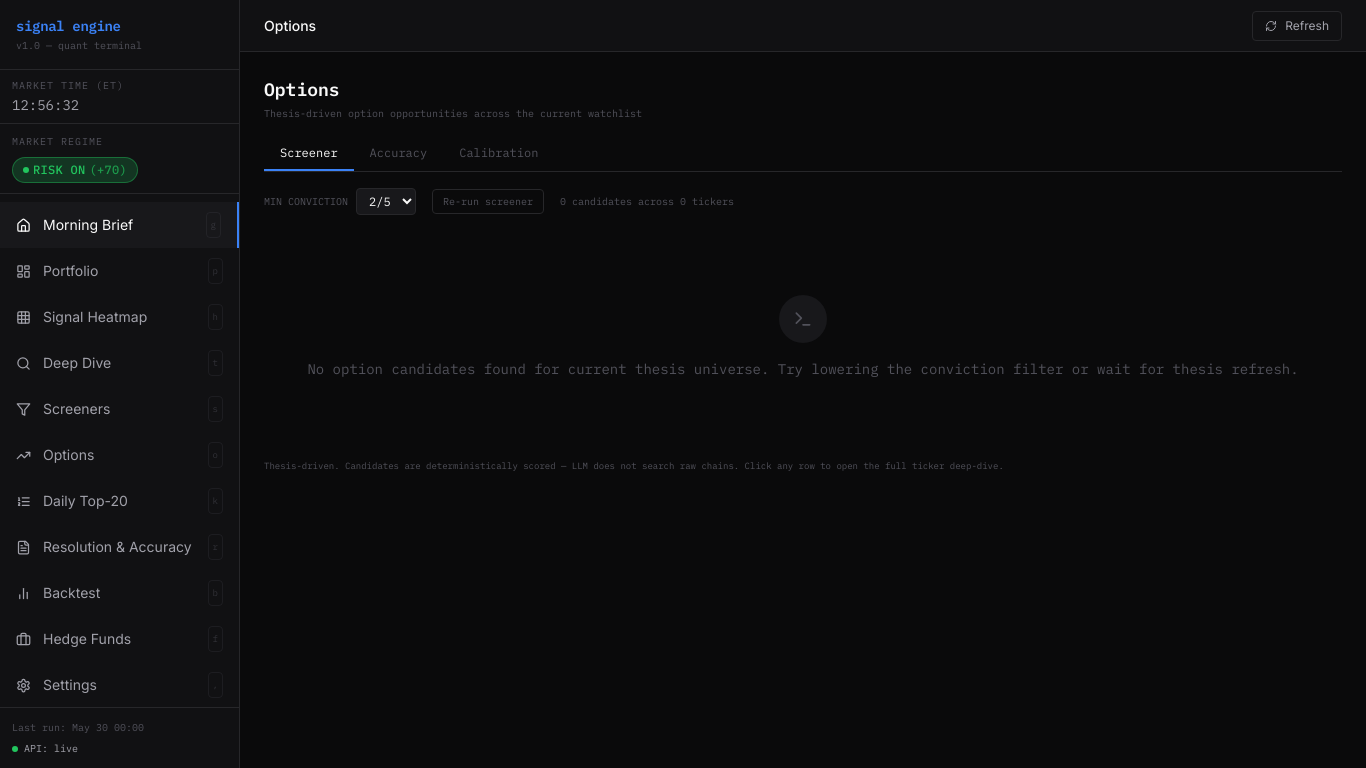
Scenario: OptionsPage — Accuracy tab › shows suppression reason
Click the tab "Accuracy": (398, 154) [354,137,443,171]
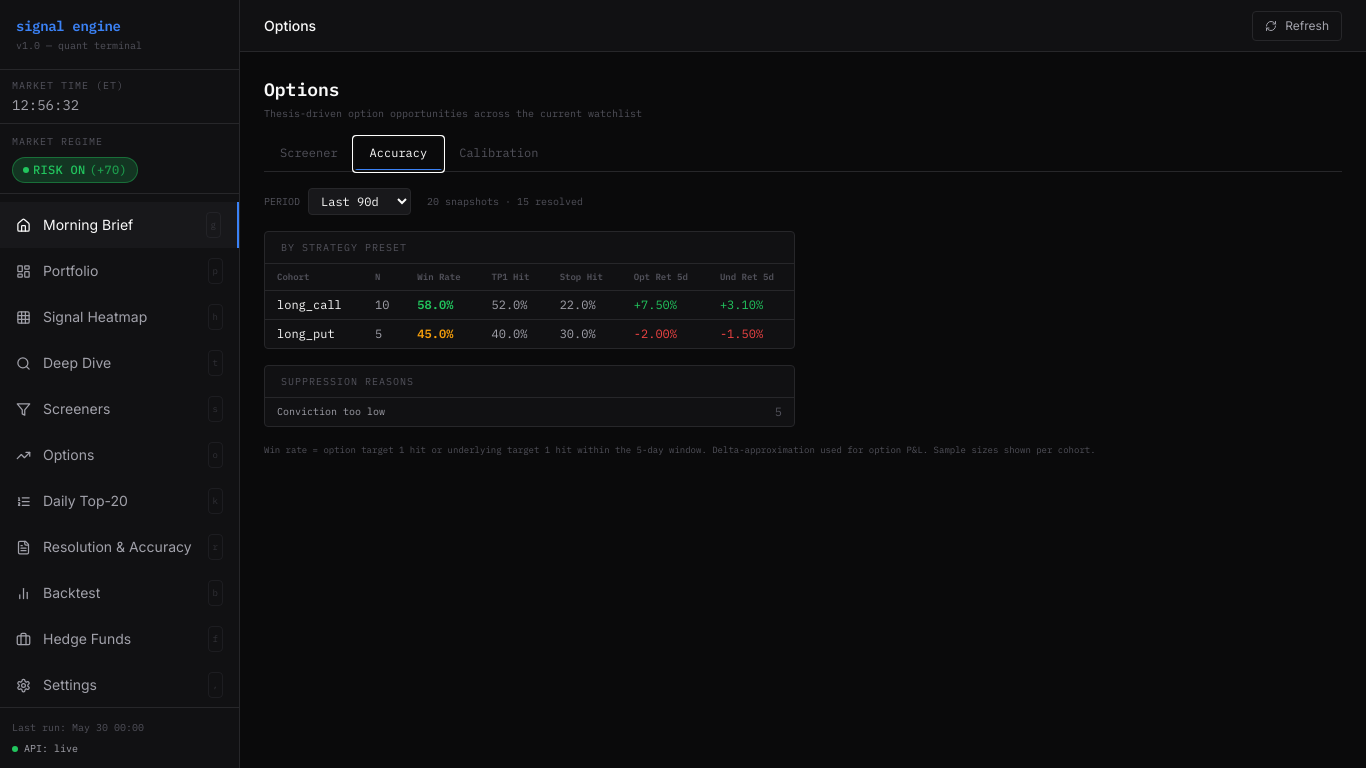
Expected: the text "Suppression Reasons" is shown, [265,366,794,398]
Expected: the text "Conviction too low" is shown, [277,404,385,419]
